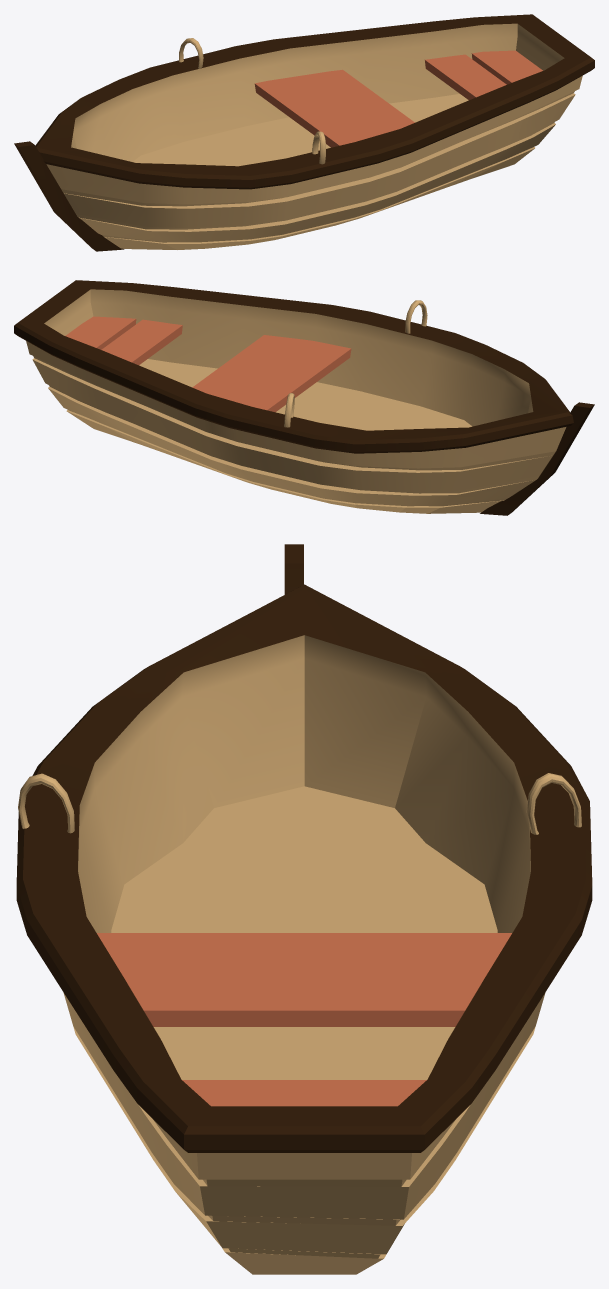
Rendered from rowboat_only.fbx.
3 views of the same model, one above another, from view 1: azimuth 30°, elevation 25°; view 2: azimuth 150°, elevation 25°; view 3: azimuth 270°, elevation 25° (orthographic). The views are drawn at different scales.
Parts seen in each view (by area): view 1: pasted__pCube24; view 2: pasted__pCube24; view 3: pasted__pCube24.
Part boxes in pixels (<box>): pasted__pCube24: <box>14,14,594,251</box>; pasted__pCube24: <box>14,280,594,515</box>; pasted__pCube24: <box>16,544,592,1274</box>.
Bounding box in the file's own units: 3.45 × 0.7943 × 1.58.
